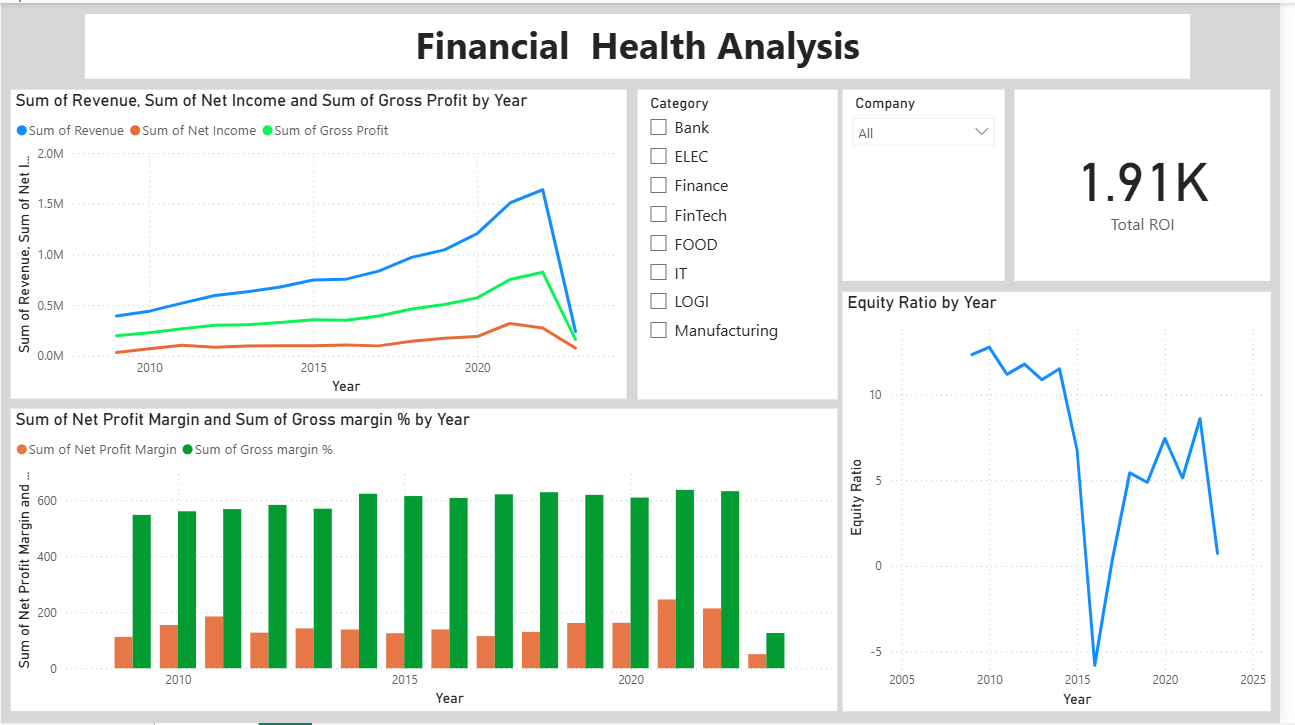

The dashboard page shown, as its layout file describes it:
{"tool":"powerbi","page":{"name":"Page 1","canvas":[1280,720],"ordinal":0},"visuals":[{"type":"lineChart","fields":{"Category":["Financial Statements.Year"],"Y":["Sum(Financial Statements.Revenue)","Sum(Financial Statements.Net Income)","Sum(Financial Statements.Gross Profit)"]},"box":[9.7,87,615.7,309.5],"z":0},{"type":"clusteredColumnChart","fields":{"Category":["Financial Statements.Year"],"Y":["Sum(Financial Statements.Net Profit Margin)","Sum(Financial Statements.Gross margin %)"]},"box":[9.9,405.6,826.8,302.8],"z":1},{"type":"card","fields":{"Values":["Sum(Financial Statements.ROI)"]},"box":[1014.1,87.3,256.3,191.5],"z":2},{"type":"slicer","fields":{"Values":["Financial Statements.Category"]},"box":[636.6,87.3,200,309.9],"z":3},{"type":"slicer","fields":{"Values":["Financial Statements.Company "]},"box":[842.3,87.3,162,191.5],"z":4},{"type":"lineChart","fields":{"Y":["Sum(Financial Statements.Debt/Equity Ratio)"],"Category":["Financial Statements.Year"]},"box":[842.3,288.7,428.2,419.7],"z":5},{"type":"textbox","box":[83.8,11.3,1105.7,64.5],"z":6}]}

Visuals, with their boxes in screenshot pixels (x1, y1, x2, y2), scaled from the page's 1280x720 canvas onto the 1295x725 screenshot:
lineChart - Financial Statements.Year x Sum(Financial Statements.Revenue): detection(10, 88, 633, 399)
clusteredColumnChart - Financial Statements.Year x Sum(Financial Statements.Net Profit Margin): detection(10, 408, 847, 713)
card - Sum(Financial Statements.ROI): detection(1026, 88, 1285, 281)
slicer - Financial Statements.Category: detection(644, 88, 846, 400)
slicer - Financial Statements.Company : detection(852, 88, 1016, 281)
lineChart - Sum(Financial Statements.Debt/Equity Ratio) x Financial Statements.Year: detection(852, 291, 1285, 713)
textbox: detection(85, 11, 1203, 76)
